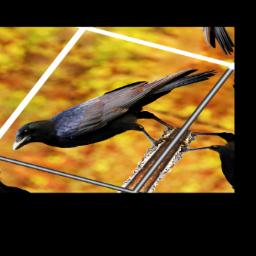Crow: (2, 36, 220, 181)
